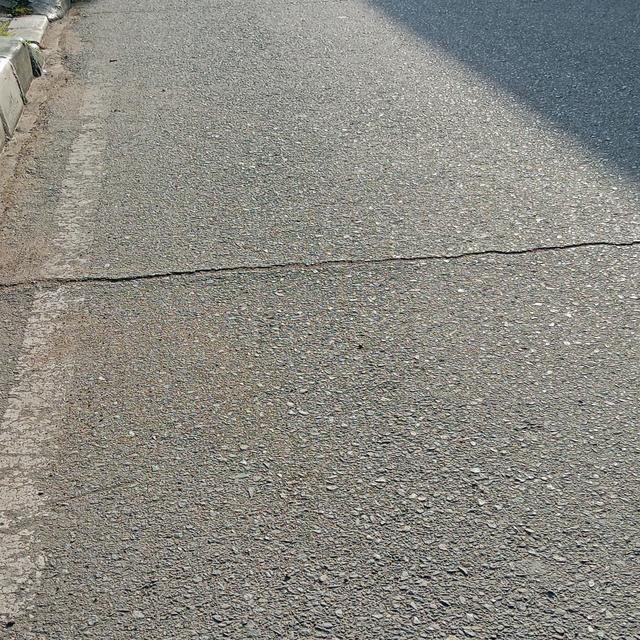Melintang: (0, 228, 640, 309)
